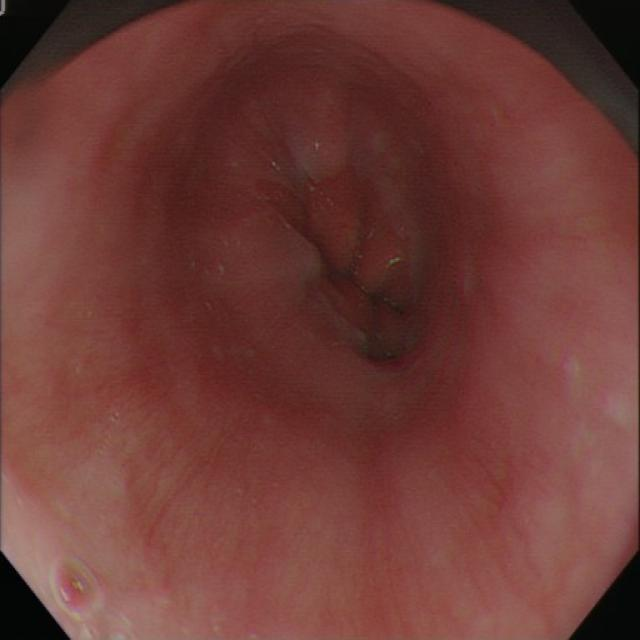I: (281, 169, 423, 359)
T: (50, 552, 109, 624)
